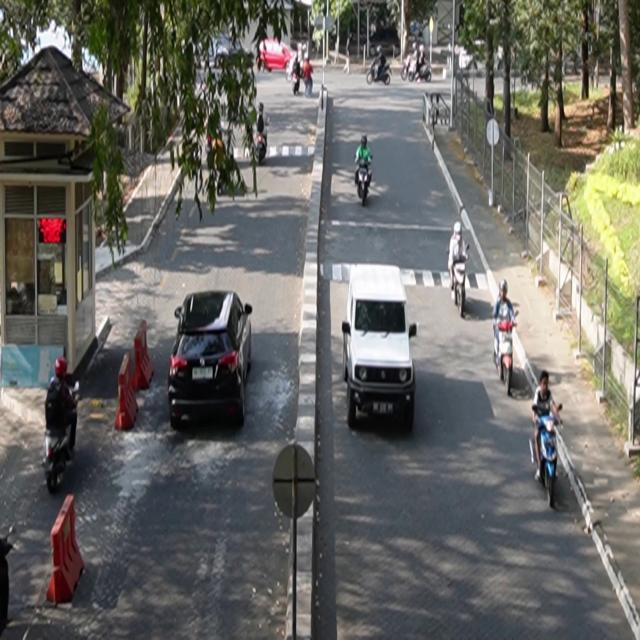car: (169, 290, 253, 431)
truck: (334, 263, 418, 432)
